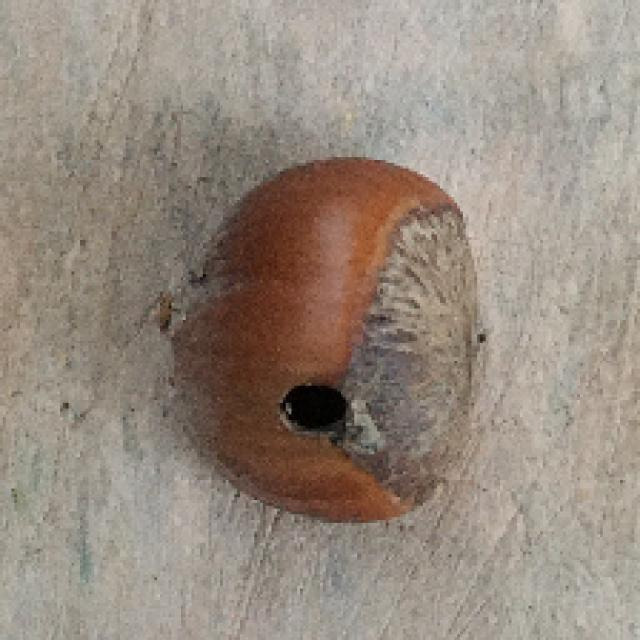damagedHazelnut: (149, 147, 482, 532)
